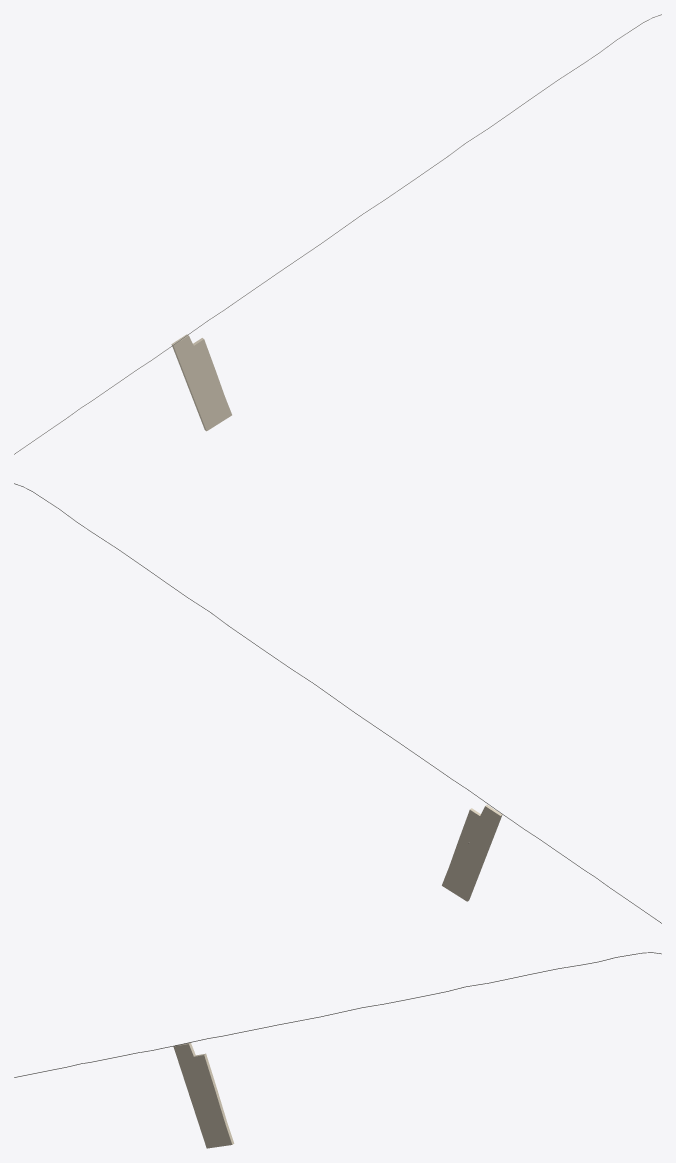
File: historic-palestine-14_28_3559_3225.glb
3 views of the same model, one above another, from view 1: azimuth 30°, elevation 25°; view 2: azimuth 150°, elevation 25°; view 3: azimuth 330°, elevation 25° (orthographic).
Parts seen in each view (by area): view 1: Building_, Road; view 2: Building_, Road; view 3: Building_, Road.
Part boxes in pixels (x1,y1,x2,y2): Building_: (171, 334, 231, 431); Road: (14, 14, 661, 454); Building_: (442, 805, 502, 901); Road: (14, 483, 661, 923); Building_: (173, 1042, 234, 1148); Road: (14, 952, 661, 1077).
Size of the model in its own units: 1434 by 647 by 8.7.
